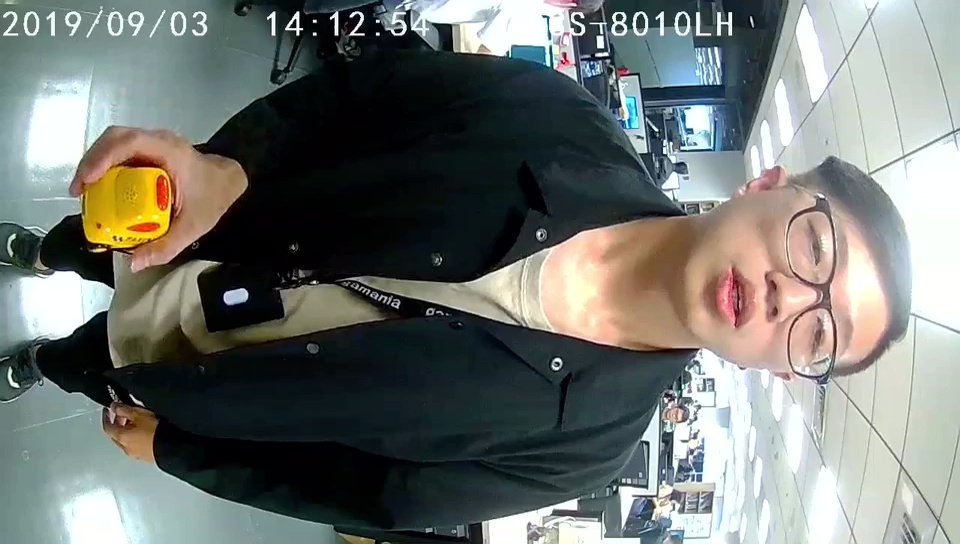car: (83, 163, 170, 251)
